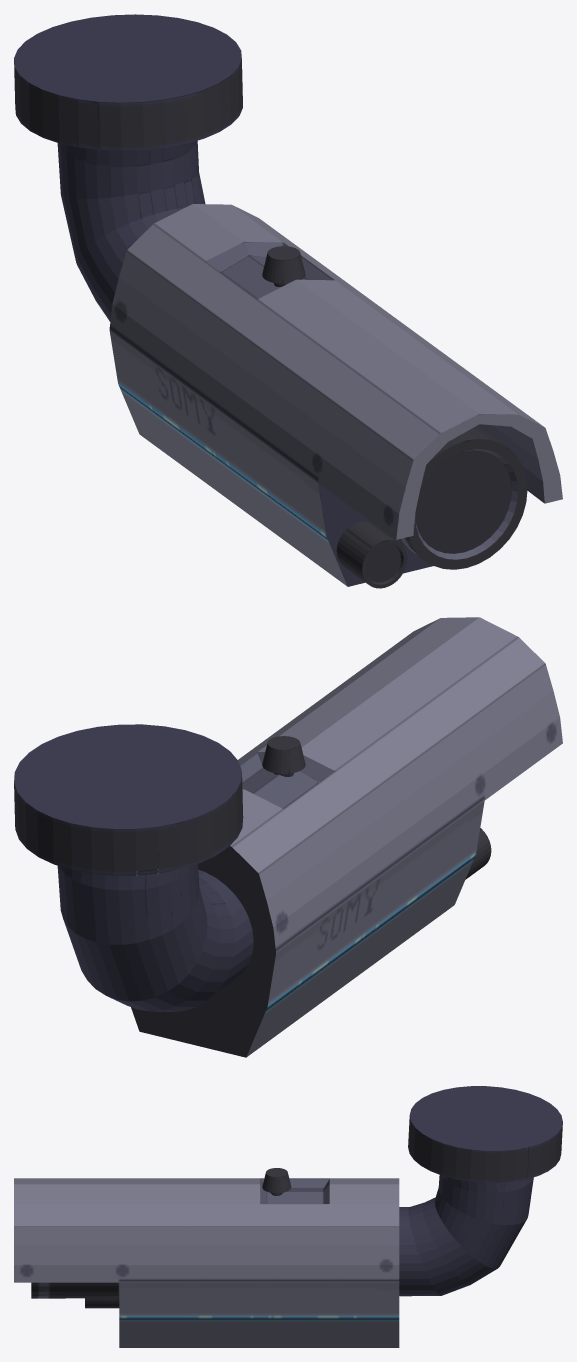
File: Camera.fbx
The picture shows the model from 3 angles, top to bottom: view 1: azimuth 30°, elevation 25°; view 2: azimuth 150°, elevation 25°; view 3: azimuth 270°, elevation 25°; orthographic projection. The views are drawn at different scales.
Parts seen in each view (by area): view 1: Cube.002, Cylinder.002; view 2: Cube.002, Cylinder.002; view 3: Cube.002, Cylinder.002.
Part boxes in pixels (left/top/right/bottom): Cube.002: left=109, top=204, right=562, bottom=588; Cylinder.002: left=14, top=14, right=242, bottom=321; Cube.002: left=131, top=617, right=562, bottom=1057; Cylinder.002: left=14, top=724, right=253, bottom=1011; Cube.002: left=14, top=1168, right=399, bottom=1347; Cylinder.002: left=399, top=1086, right=562, bottom=1296.
Size of the model in its own units: 371 by 574 by 1327.
